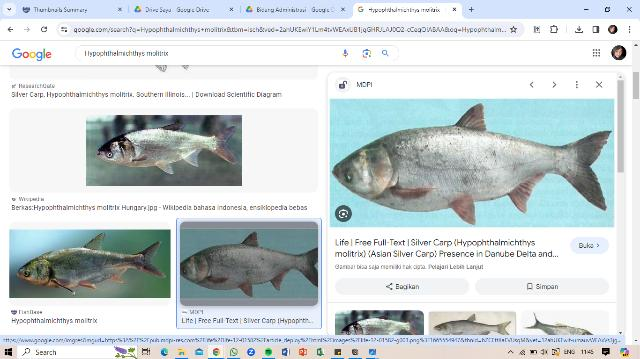Mulut: (324, 151, 354, 195)
Sirip Anal: (506, 165, 556, 222)
Sirip Dada: (385, 183, 435, 207)
Sirip Ekor: (568, 119, 616, 221)
Sirip Perut: (446, 190, 489, 228)
Sirip Punggung: (450, 90, 490, 140)
